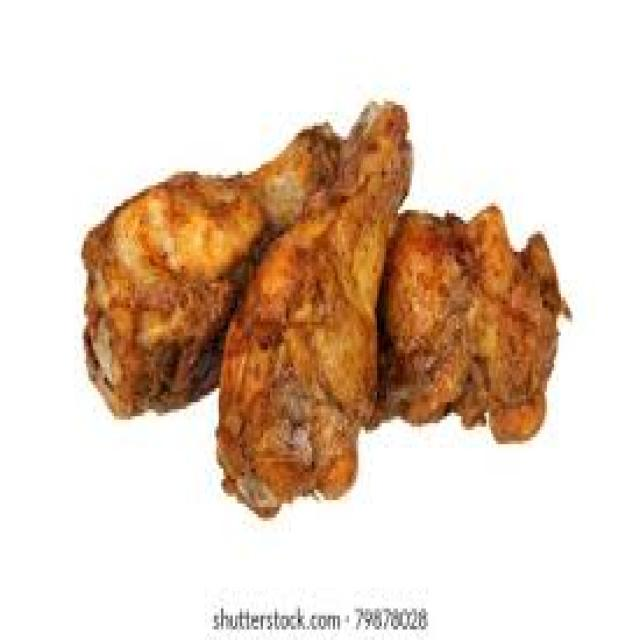Frango: (82, 95, 572, 518)
